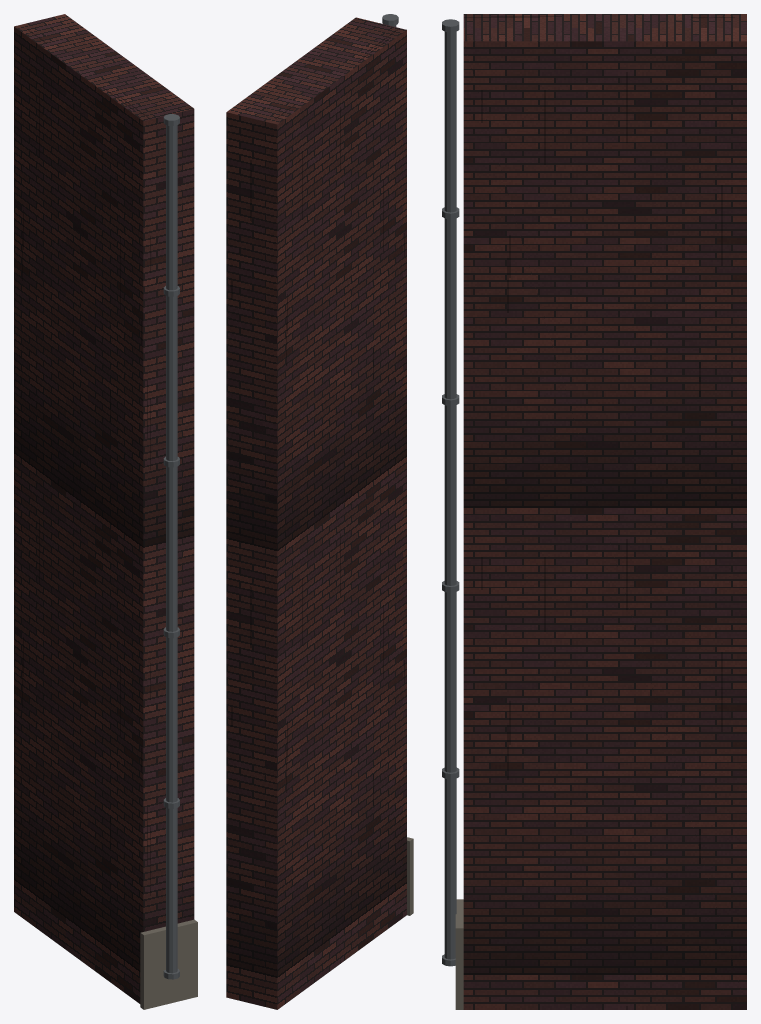
File: wall.glb
3 renders of one model, left to right at view 1: azimuth 30°, elevation 25°; view 2: azimuth 150°, elevation 25°; view 3: azimuth 270°, elevation 25°, orthographic. The views are drawn at different scales.
Visible parts, largest first — view 1: wall; view 2: wall; view 3: wall.
Part boxes in pixels (bbox=[...]): wall: bbox=[14, 14, 197, 1009]; wall: bbox=[226, 14, 413, 1009]; wall: bbox=[442, 14, 746, 1009].
Size of the model in its own units: 0.53 by 8.32 by 2.37.
3 materials, 1 textured.
